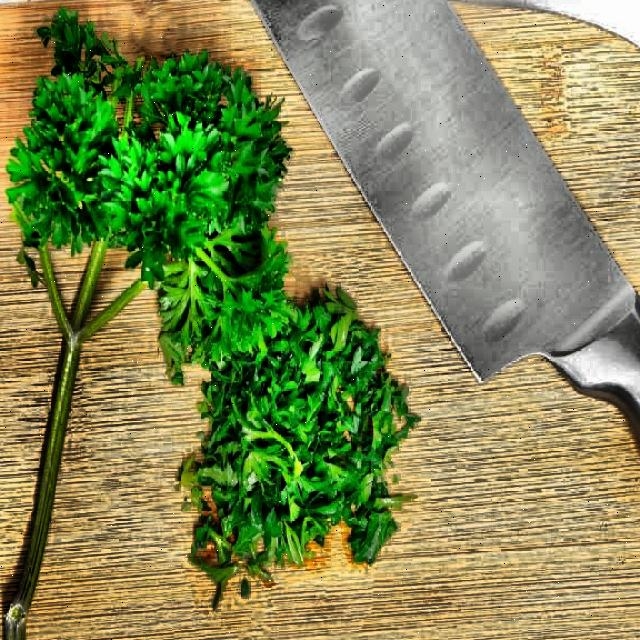knife: (231, 0, 640, 552)
